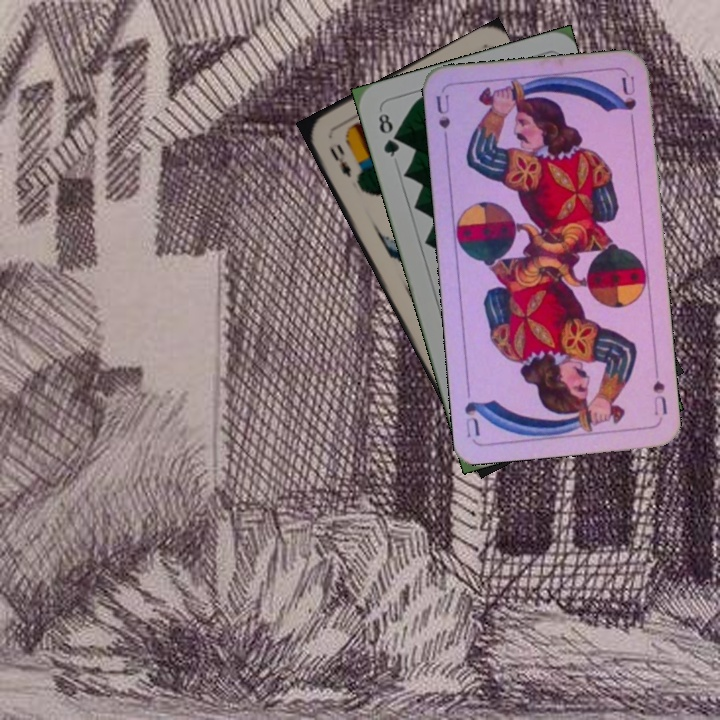EO: (324, 140, 354, 180)
G8: (374, 109, 402, 160)
SU: (432, 91, 452, 149), (649, 363, 670, 418)
